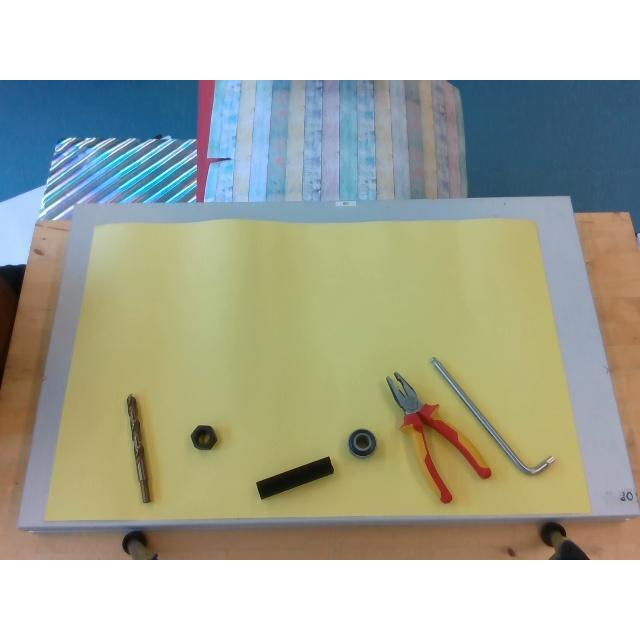AllenKey: (432, 357, 556, 475)
Bearing2: (348, 428, 376, 457)
Drill: (126, 393, 150, 502)
F20_20_B: (257, 457, 333, 499)
M20: (191, 426, 217, 450)
